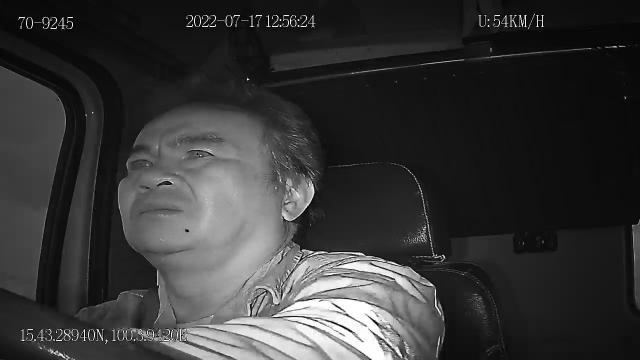SafeDriving: (175, 137, 225, 169), (124, 148, 160, 174)
Seatbelt: (134, 283, 162, 333)
